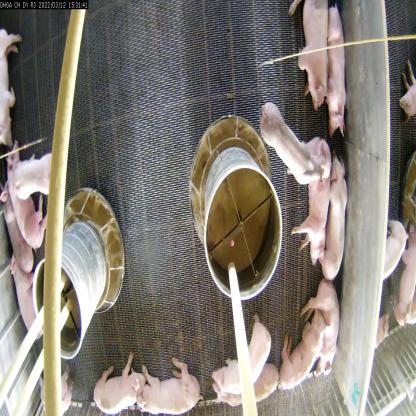Pig: (254, 96, 324, 182), (282, 0, 330, 113), (294, 136, 333, 266), (315, 4, 351, 143), (300, 276, 344, 382), (135, 352, 207, 416), (214, 314, 270, 392), (277, 311, 327, 393), (0, 148, 62, 214), (0, 184, 38, 290), (6, 144, 42, 250), (218, 358, 279, 416), (5, 264, 48, 342), (90, 353, 144, 413), (322, 152, 345, 291)
